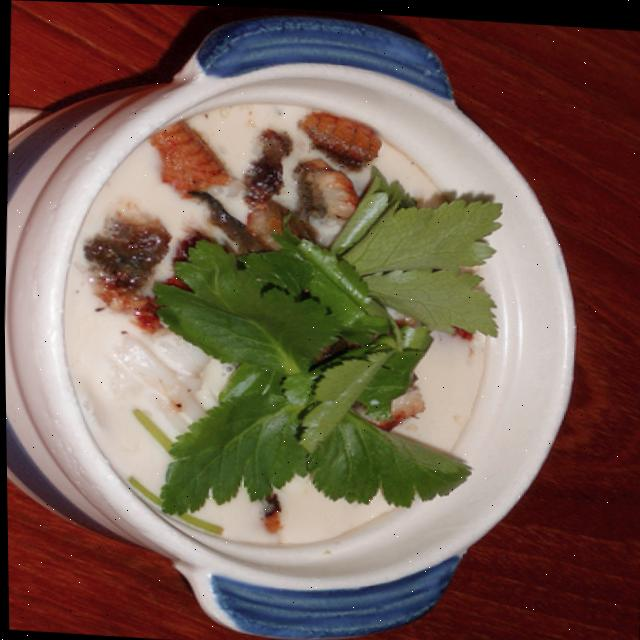鸡蛋料理: (0, 30, 598, 602)
